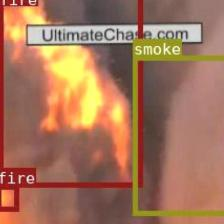fire: (0, 0, 141, 186), (0, 183, 17, 211)
smoke: (132, 55, 224, 215)
